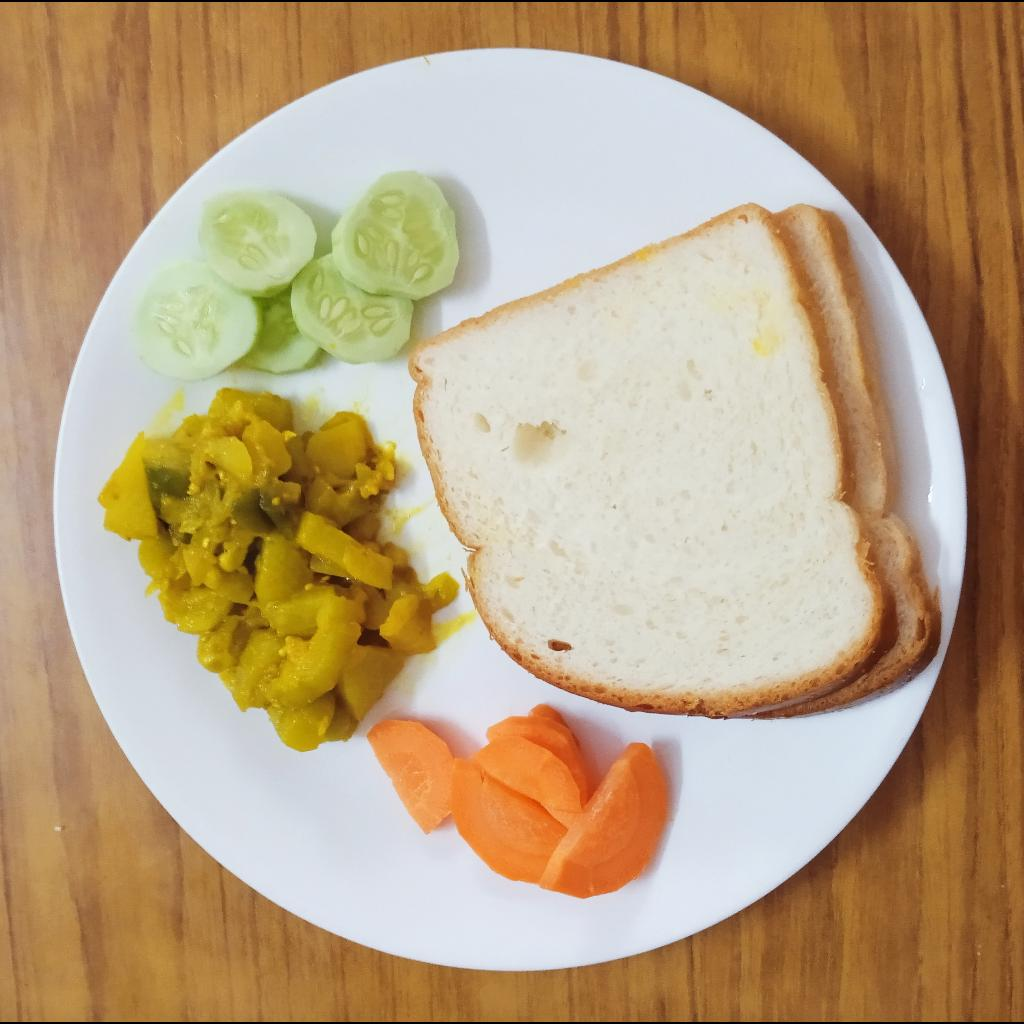bread: (405, 202, 943, 722)
carrot: (365, 704, 668, 899)
cucumber: (133, 167, 464, 381)
lau: (96, 389, 460, 753)
